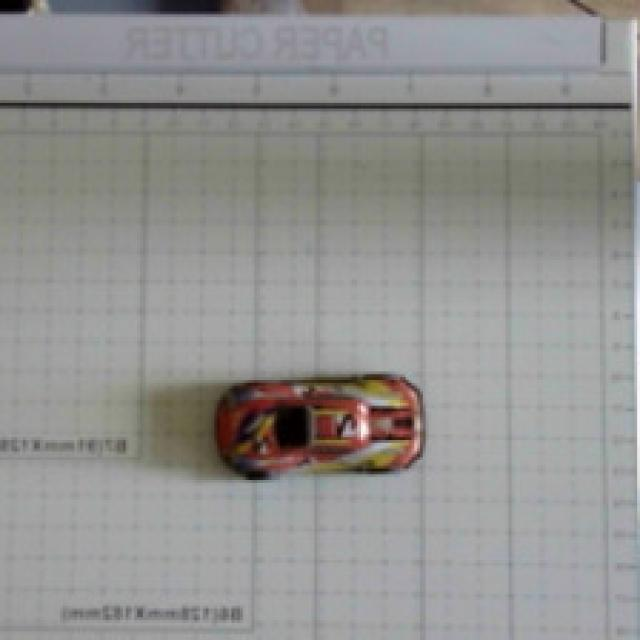Red Car: (202, 324, 460, 530)
